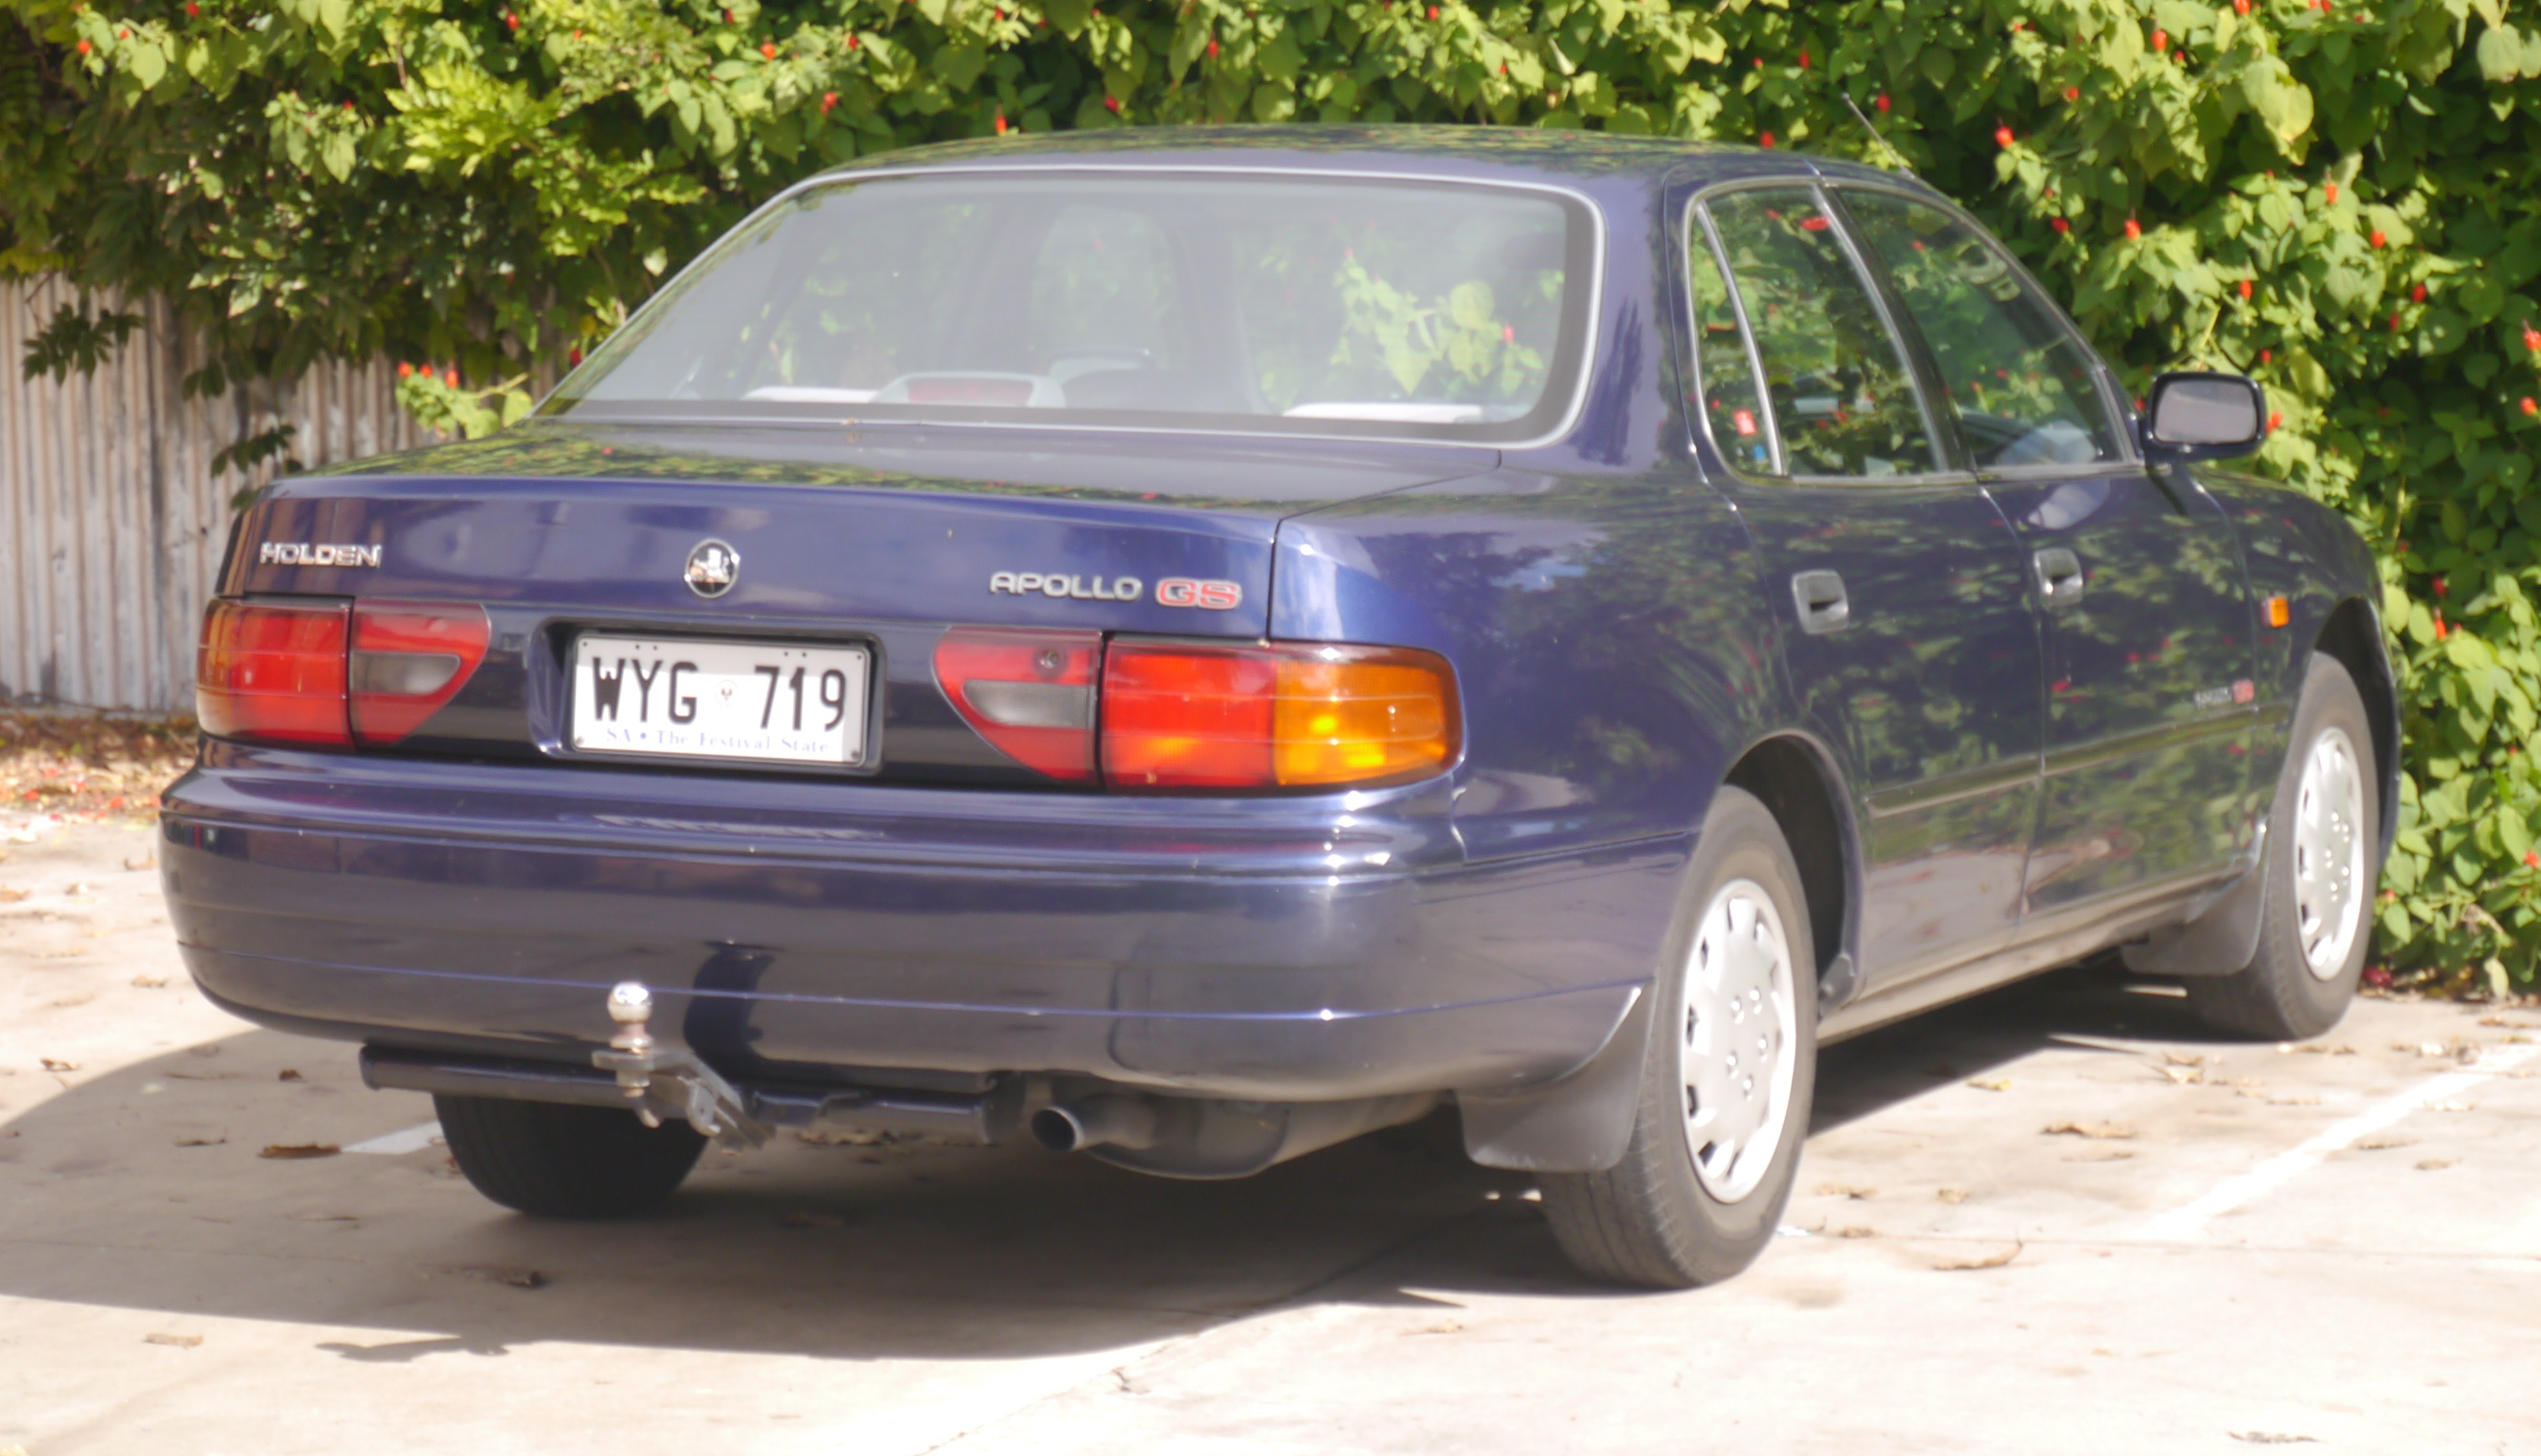mobil: (206, 106, 2440, 1315)
